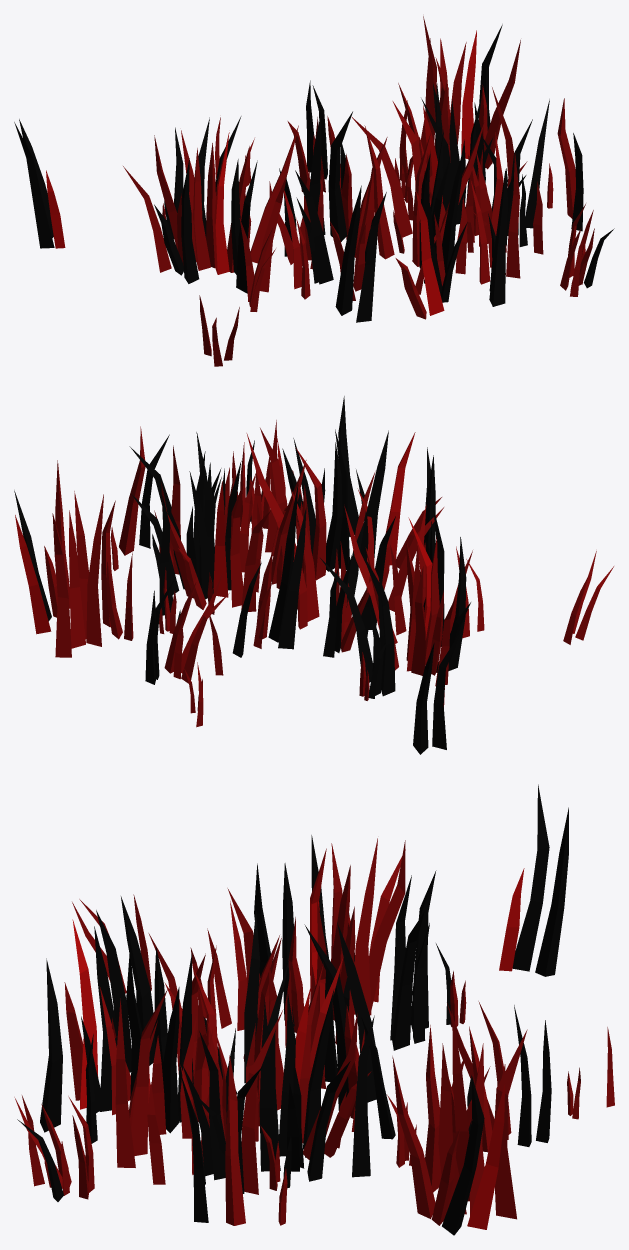
Rendered from grass.glb.
The picture shows the model from 3 angles, top to bottom: view 1: azimuth 30°, elevation 25°; view 2: azimuth 150°, elevation 25°; view 3: azimuth 270°, elevation 25°; orthographic projection. The views are drawn at different scales.
Parts seen in each view (by area): view 1: grass; view 2: grass; view 3: grass.
Boxes of the visible parts, <box> form: grass: <box>14,16,614,366</box>; grass: <box>14,396,613,754</box>; grass: <box>14,784,614,1235</box>.
Size of the model in its own units: 1 by 0.3239 by 0.8554.
